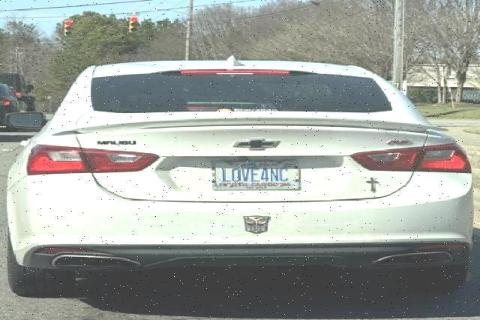LicensePlate: (209, 158, 299, 190)
